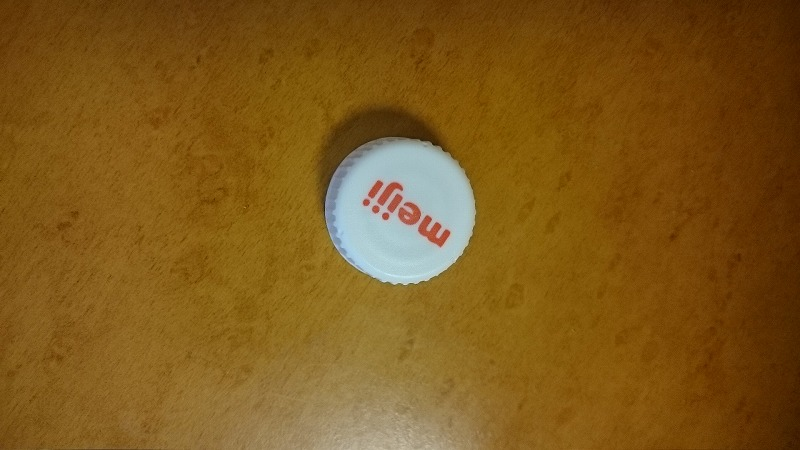B: (318, 131, 493, 302)
